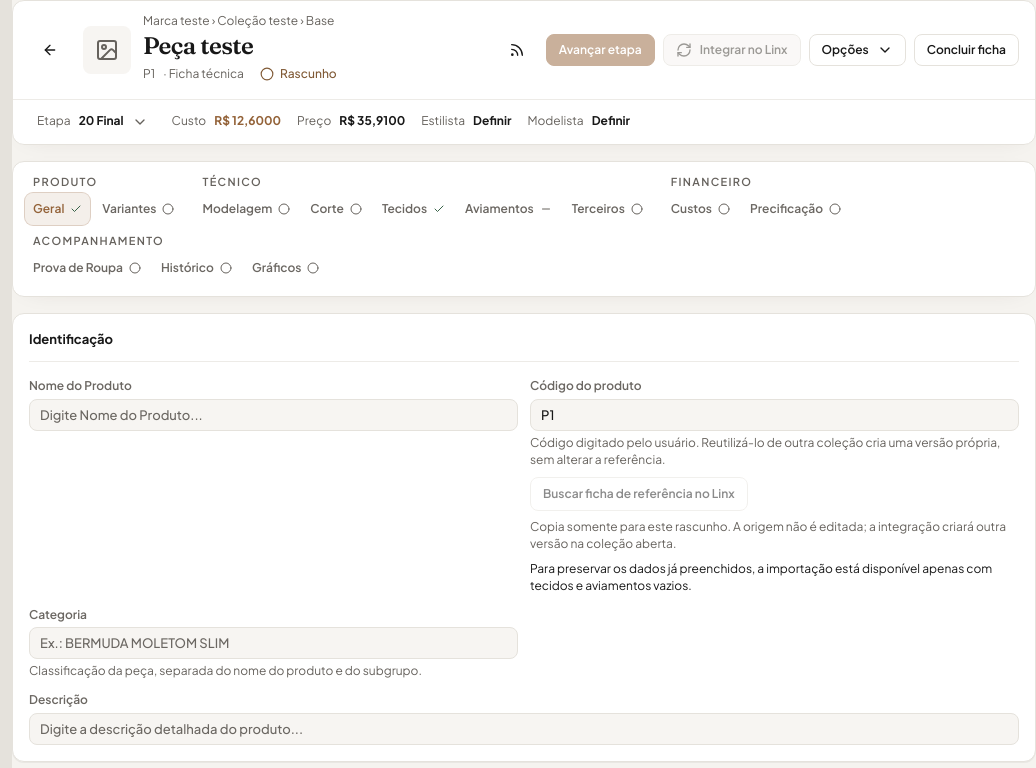
it: Conclusão, revisão e preparação persistentes › falha ao persistir não confirma conclusão
Click the button "Concluir ficha" at (966, 50), box 914,34 -> 1019,66
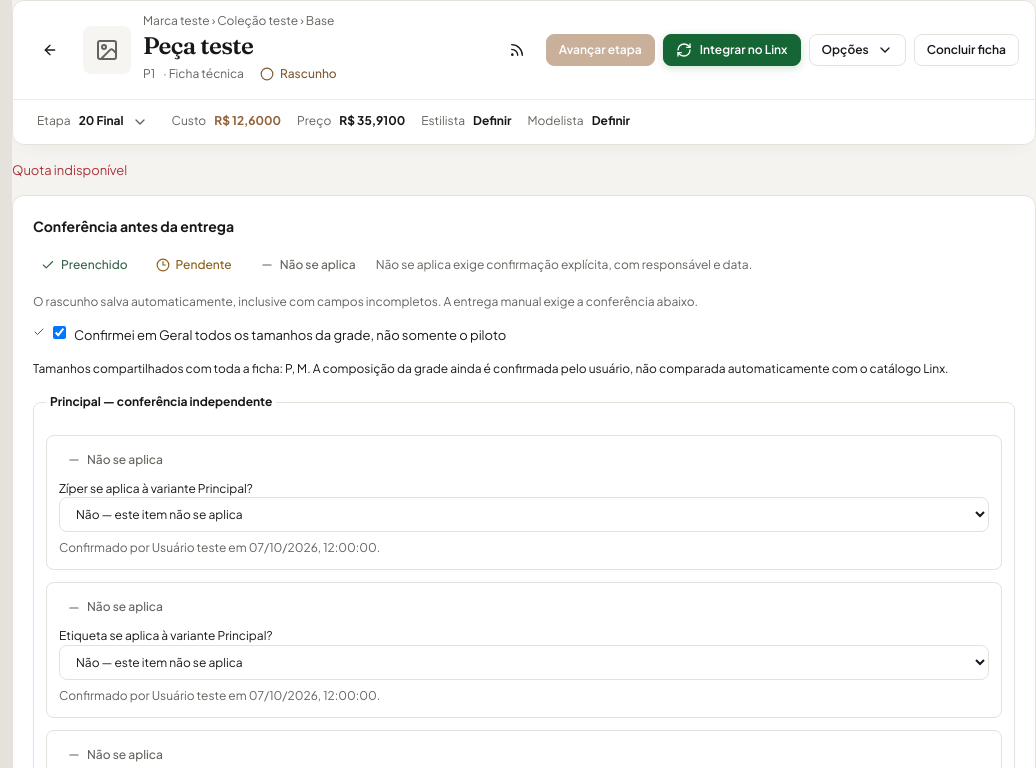
Check: the text "Quota indisponível" is shown, box 12,162 -> 127,178
